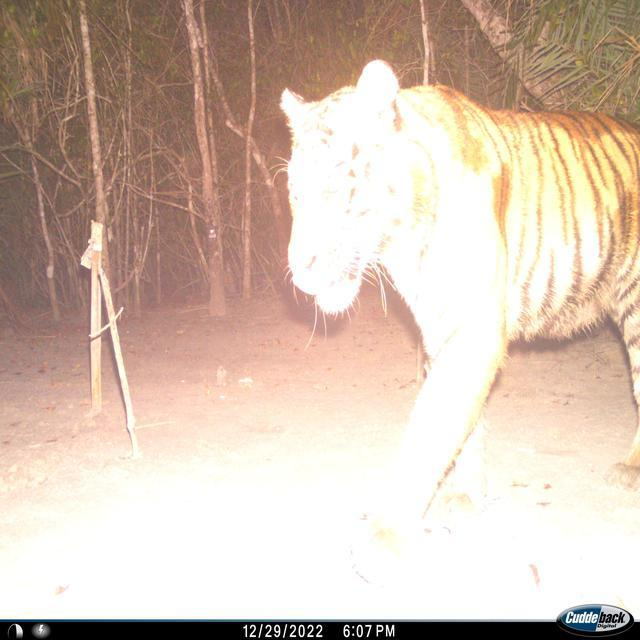tiger: (273, 57, 639, 551)
